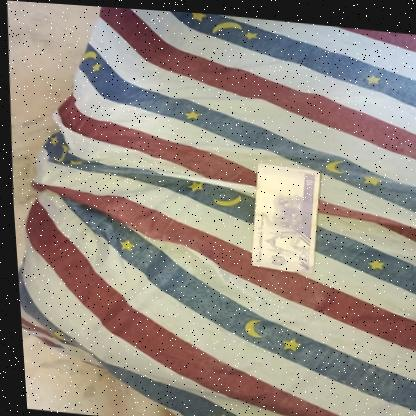vef_back: (242, 158, 325, 277)
